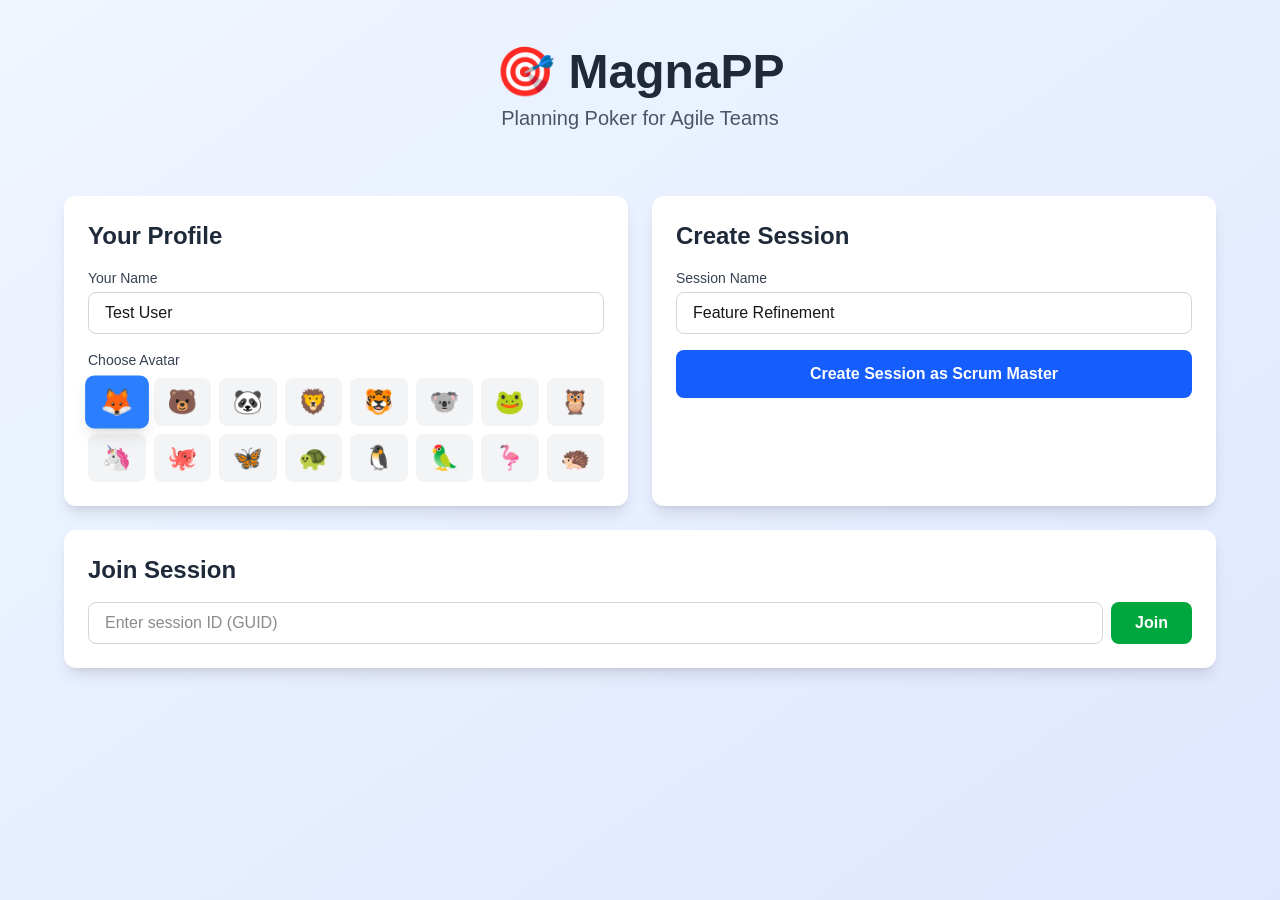
it: SessionLobby › shows error when creating session without session name
Clear the field with placeholder "e.g., Sprint Planning" below "Session Name" at (934, 313), box [676,292,1192,334]
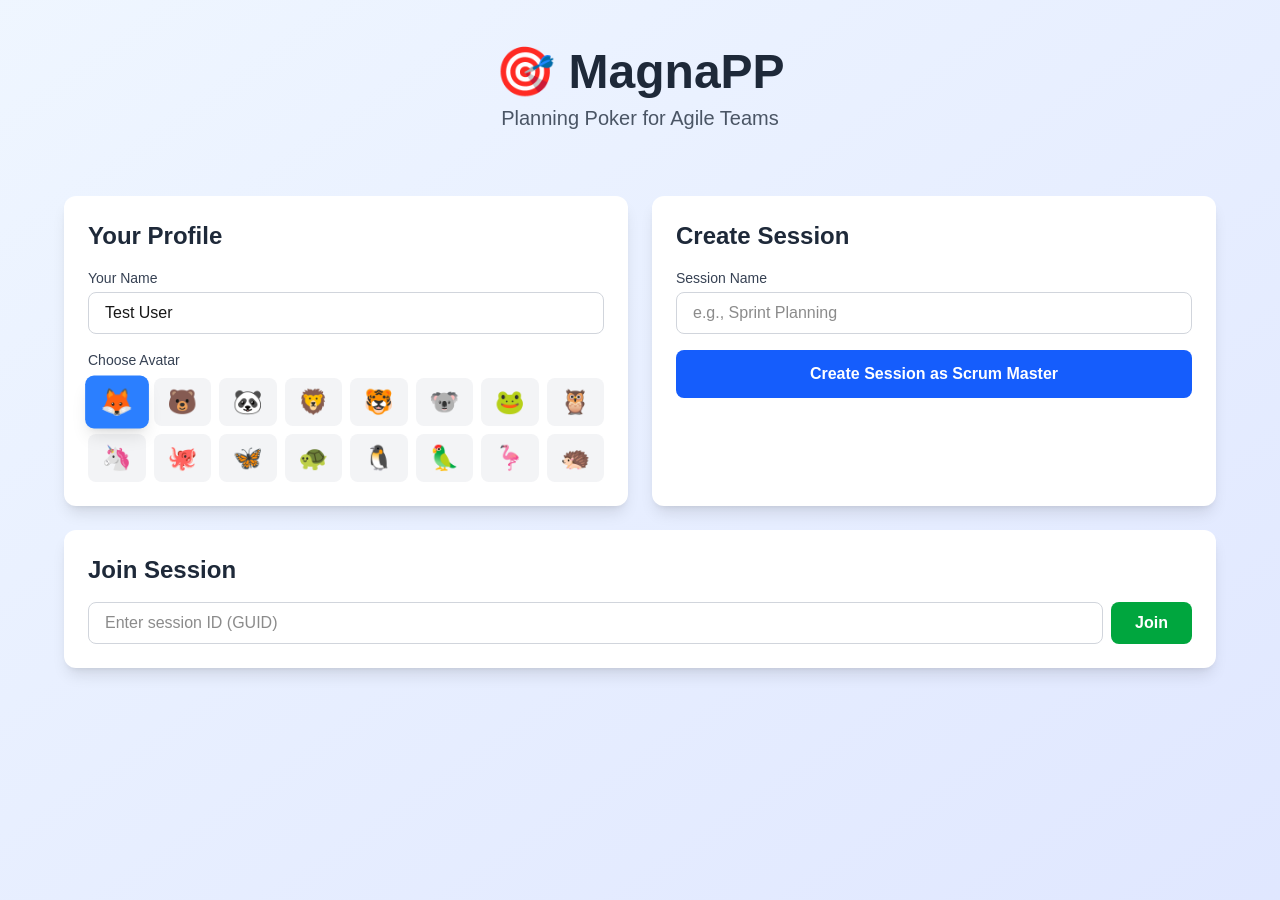
Click the button "Create Session as Scrum Master" at (934, 374), box [676,350,1192,398]
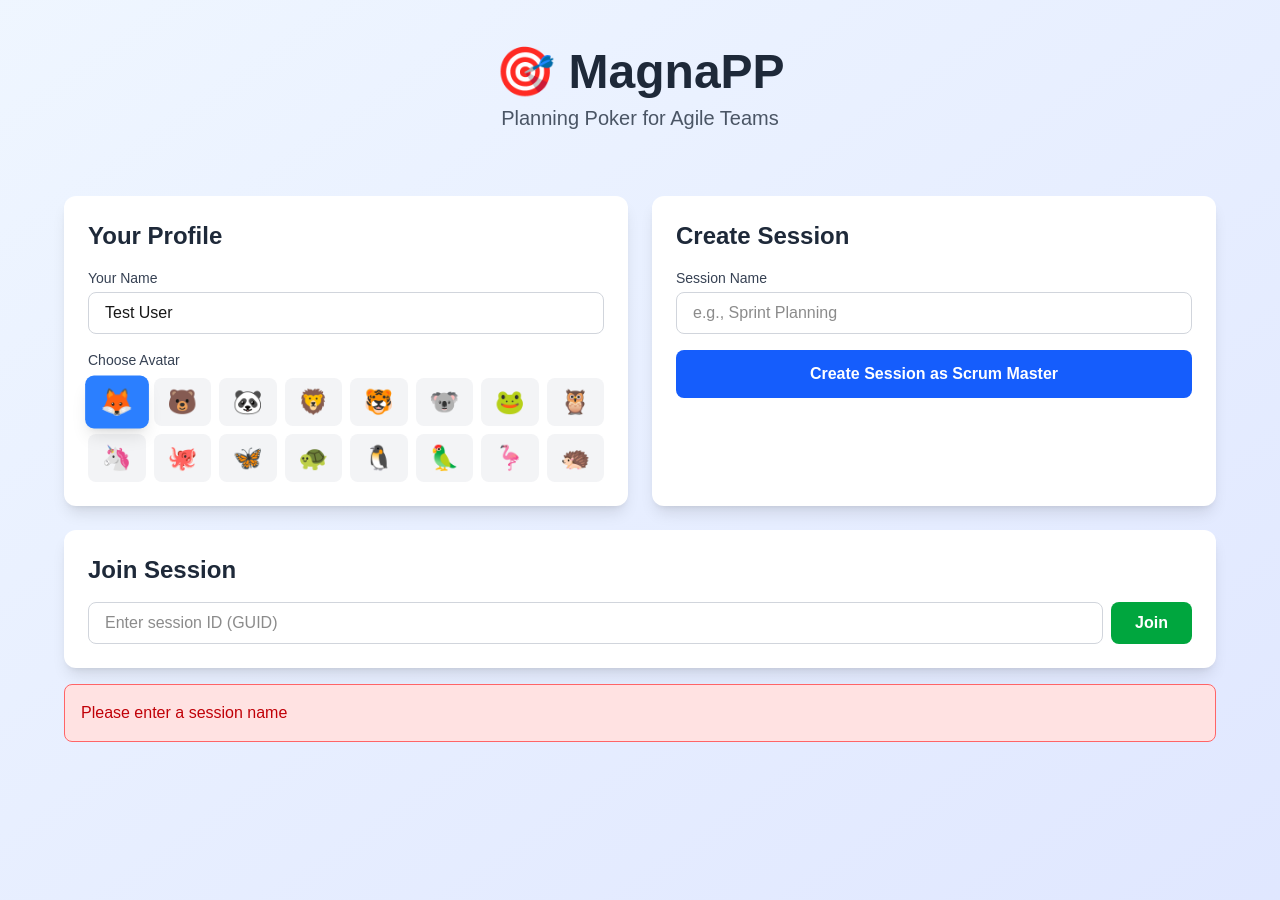
Expected: the text "Please enter a session name" is shown, [64,684,1216,742]
